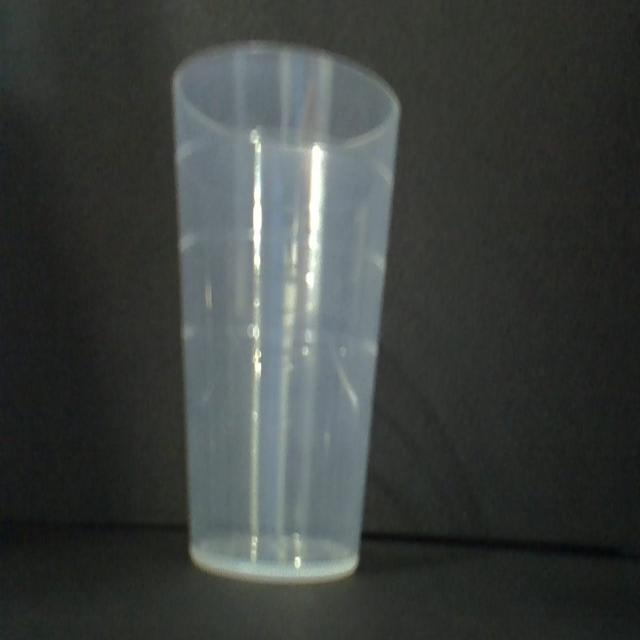cup: (164, 37, 402, 586)
